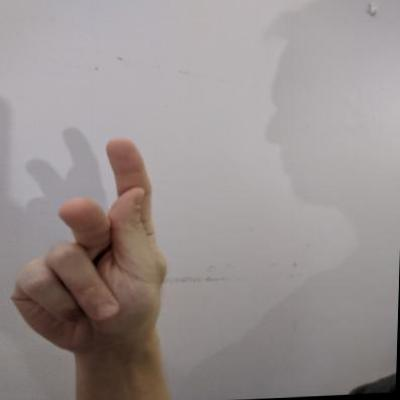hand: (2, 130, 180, 363)
